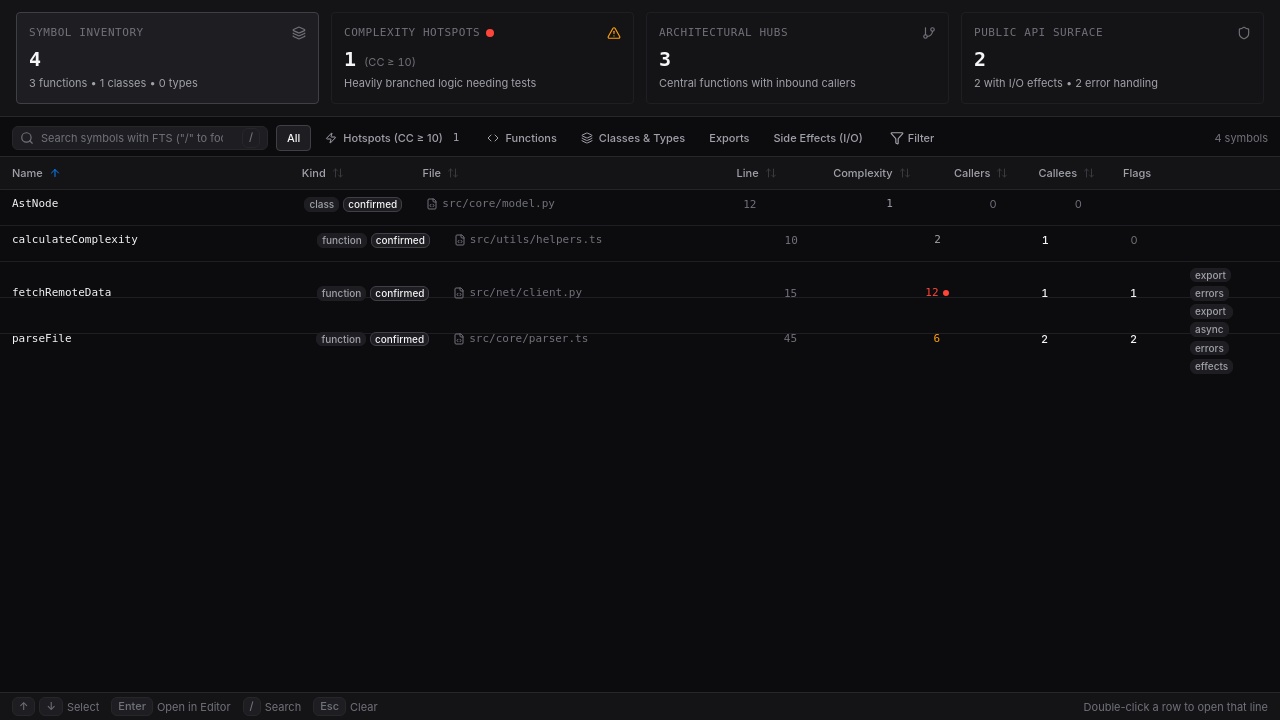
Test case: CodeIntelligenceView Component › filters symbols by path prefix
The width and height of the screenshot is (1280, 720).
Click the button "Filter" at point(912, 138), box [881,126,943,150]
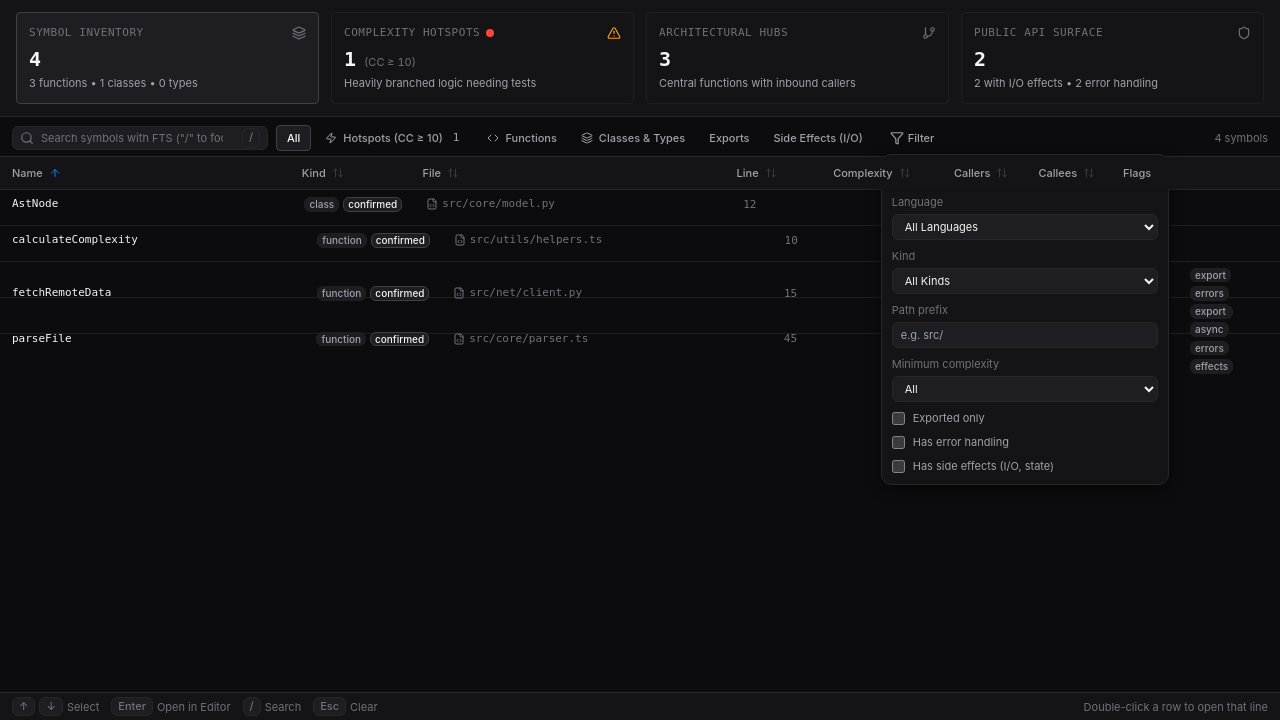
Type "src/utils" into the field with test id "filter-path-prefix" at point(1025, 335), box [892,322,1158,348]
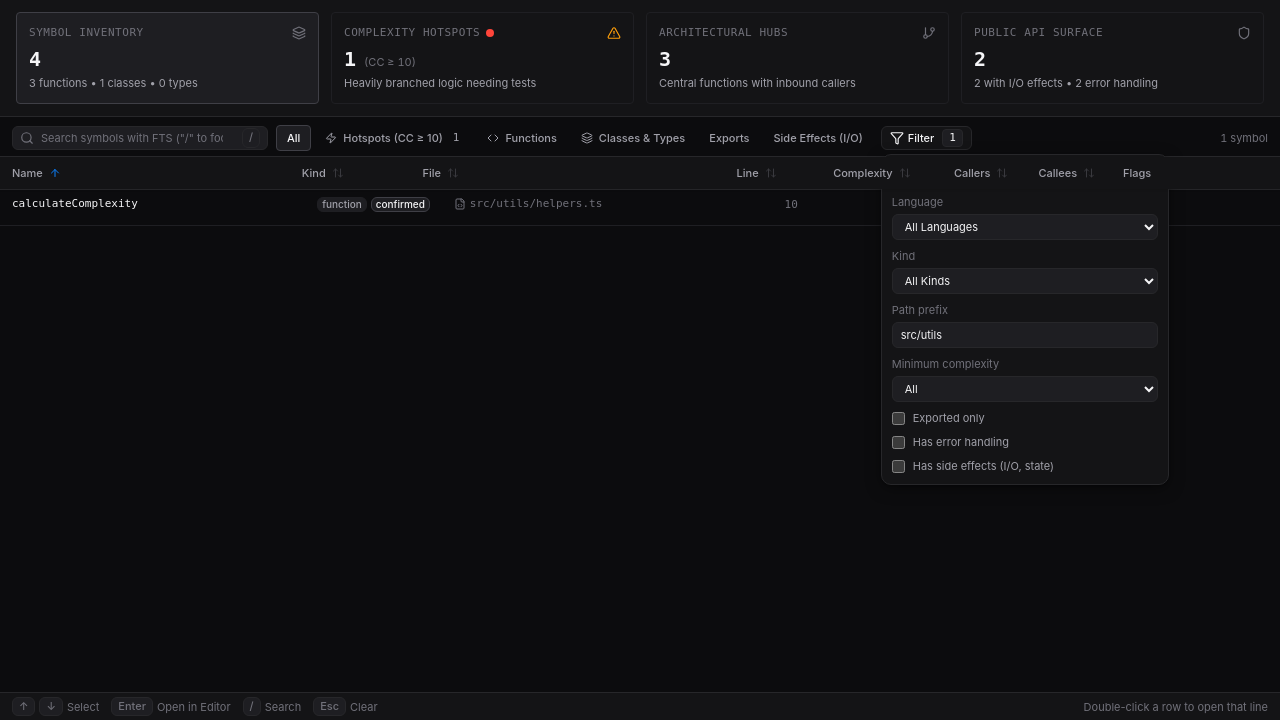
Result: the text "calculateComplexity" is shown at [12,196,138,212]
Result: the text "parseFile" is gone
Result: the text "AstNode" is gone
